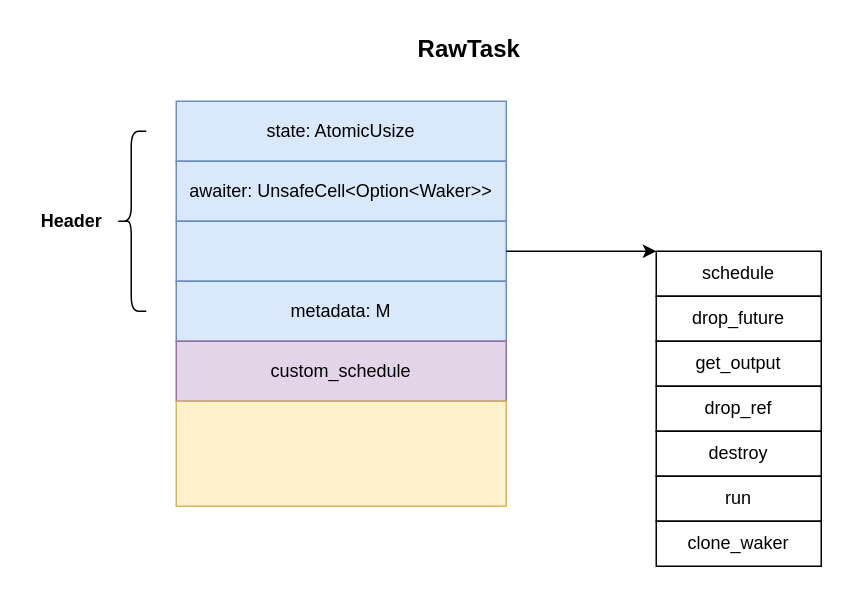
Image size: 848x593. Some labels were removed from this diagram. Each missing label, with the centre of its shape:
future / output: [340,453]
vtable: &'static TaskVTable: [340,250]
